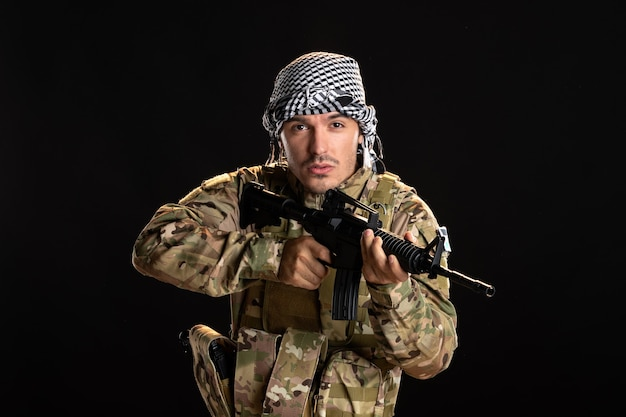gun: (234, 178, 497, 322)
